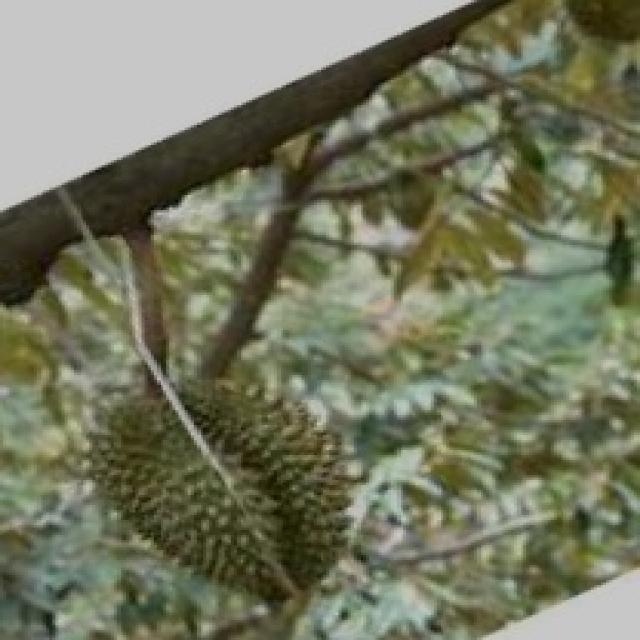fruit: (68, 350, 378, 625), (538, 0, 640, 70)
